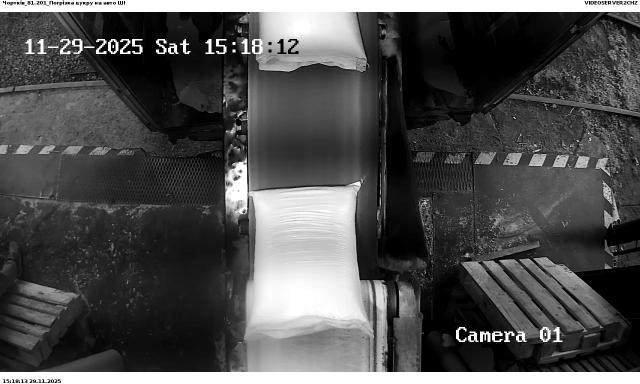bag: (248, 181, 372, 333), (257, 12, 367, 70)
